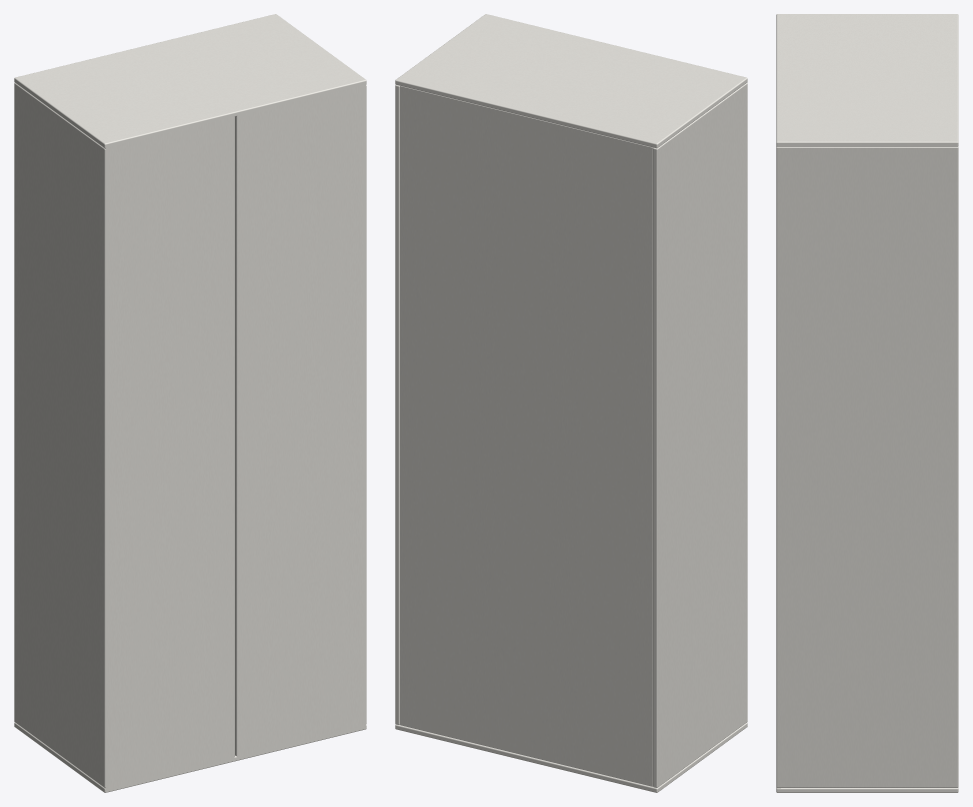
File: pax-tall.glb
The picture shows the model from 3 angles, left to right: view 1: azimuth 30°, elevation 25°; view 2: azimuth 150°, elevation 25°; view 3: azimuth 270°, elevation 25°; orthographic projection.
Visible parts, largest first — view 1: PAX / FORSAND Wardrobe, 100 cm wide, tall; view 2: PAX / FORSAND Wardrobe, 100 cm wide, tall; view 3: PAX / FORSAND Wardrobe, 100 cm wide, tall.
Boxes of the visible parts, box(x1,y1,x2,y2) form: PAX / FORSAND Wardrobe, 100 cm wide, tall: box(14, 14, 366, 792); PAX / FORSAND Wardrobe, 100 cm wide, tall: box(395, 14, 747, 792); PAX / FORSAND Wardrobe, 100 cm wide, tall: box(776, 14, 958, 792).
Bounding box in the file's own units: 1 × 2.36 × 0.6.
1 material, 1 textured.
